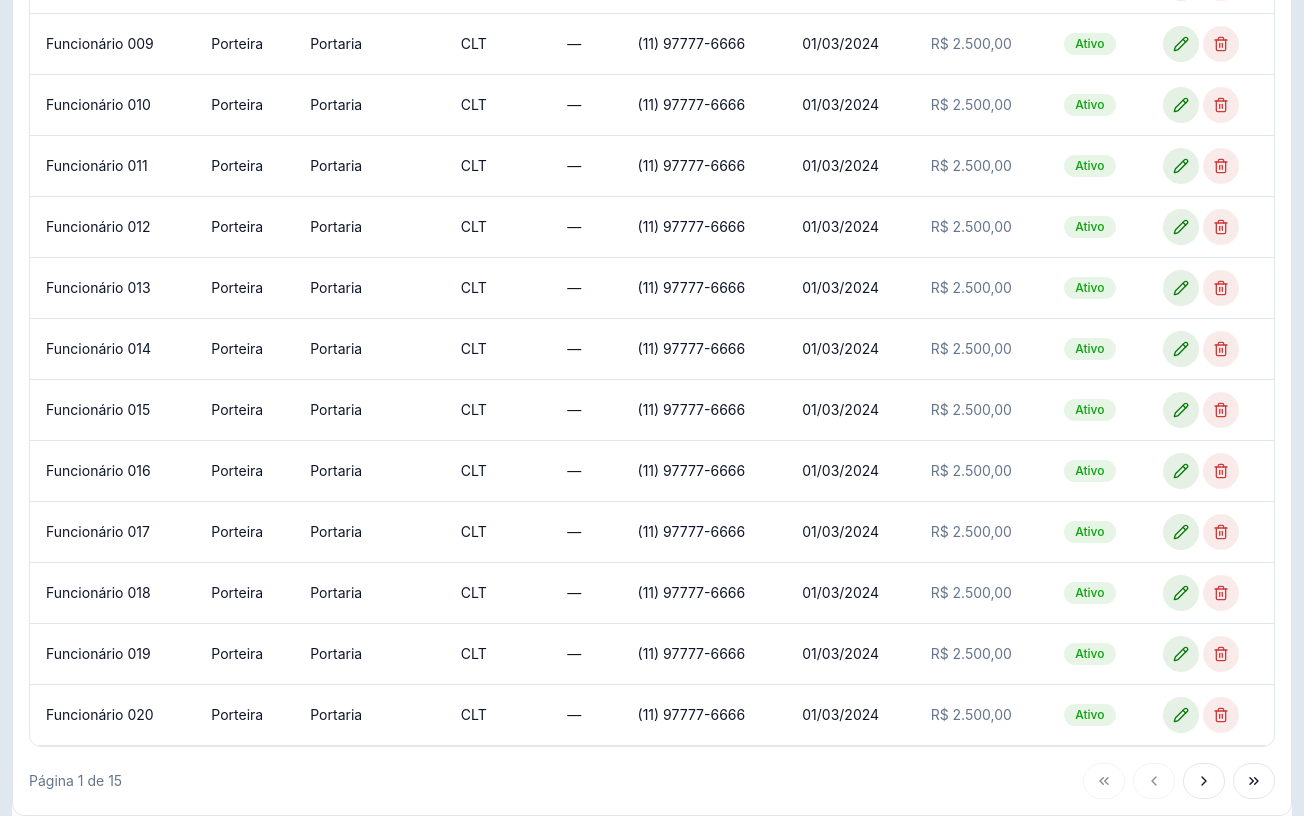
Scenario: Listagem de funcionários › trezentos funcionários paginam, e a próxima pagina e pedida ao servidor
(page scrolled)
Click the button named "Próxima página". click: (1204, 781)
box: [1183,763,1225,799]
(page scrolled)
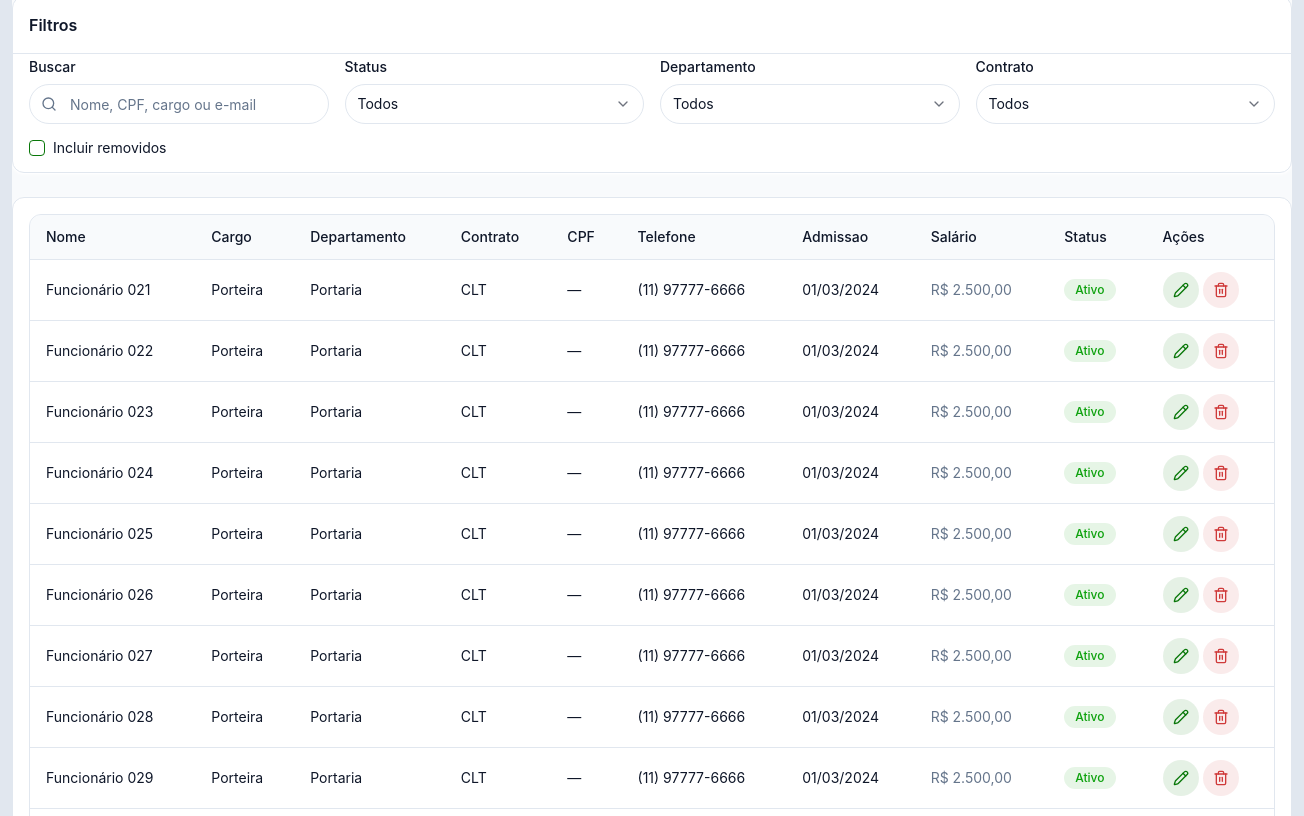
expect the text "Funcionário 021" is shown: met, box [46,280,150,300]
